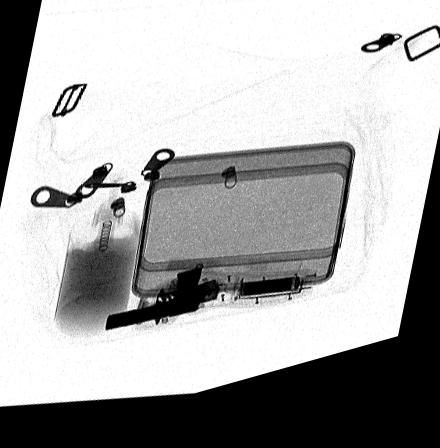Gun: (102, 275, 210, 334)
